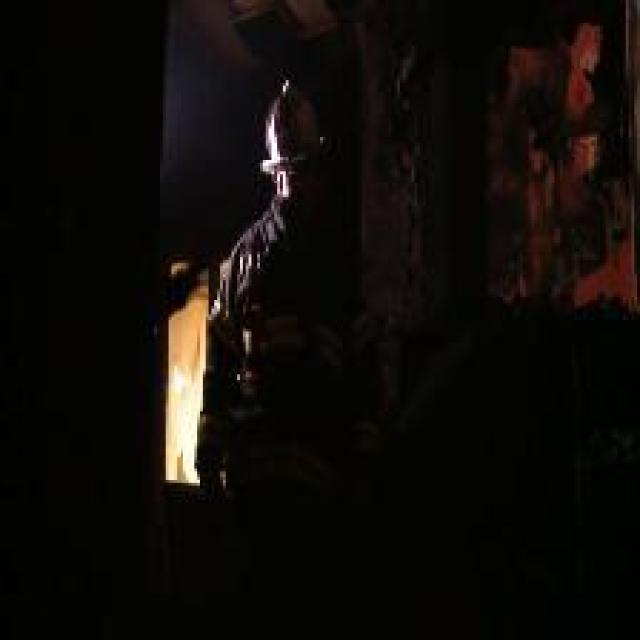other: (168, 346, 201, 479)
